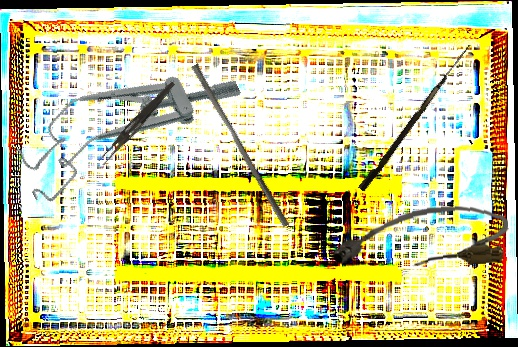Cannula: (330, 201, 511, 275)
Dressing Forceps: (97, 77, 177, 169)
Hook Surgical: (358, 39, 471, 194)
Pusher: (185, 63, 296, 228)
Speculum: (4, 34, 249, 208)
